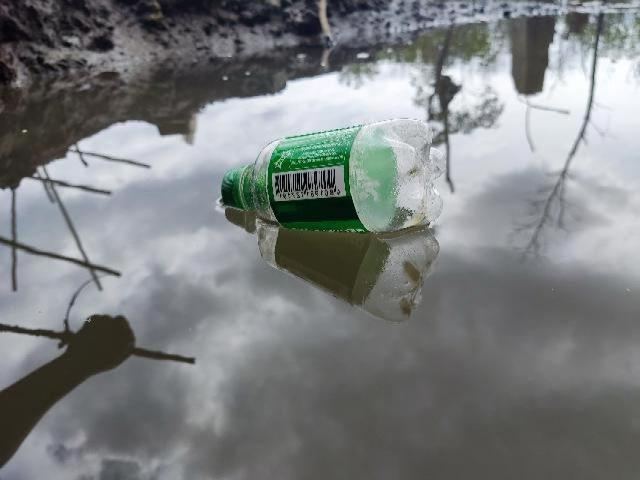Bottle: (209, 111, 457, 240)
